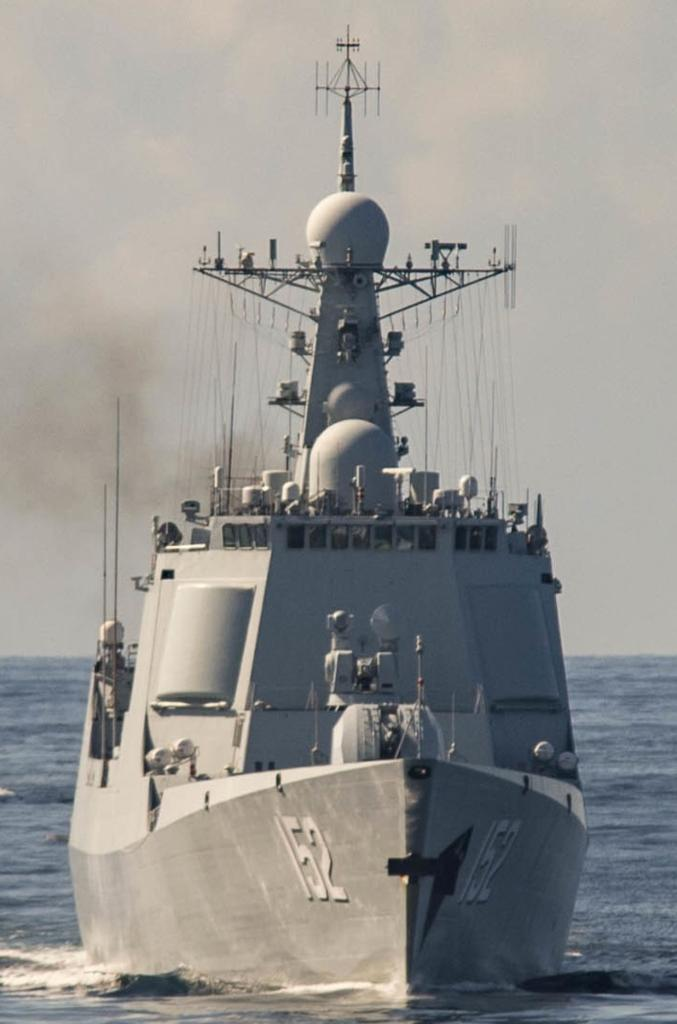Warship: (58, 20, 600, 1000)
